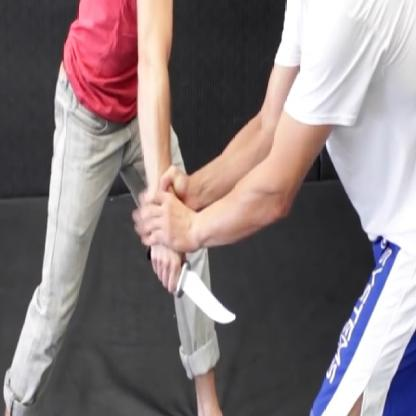knife: (140, 244, 242, 333)
